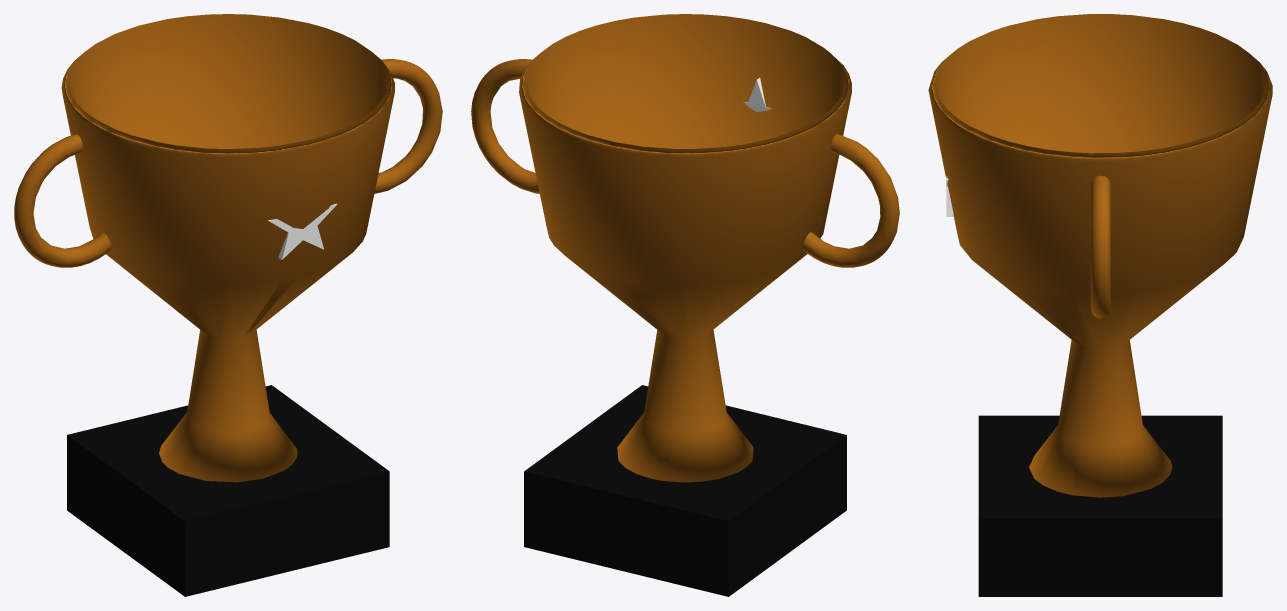
File: trophy-cup.glb
3 renders of one model, left to right at view 1: azimuth 30°, elevation 25°; view 2: azimuth 150°, elevation 25°; view 3: azimuth 270°, elevation 25°, orthographic. The views are drawn at different scales.
Parts seen in each view (by area): view 1: Cup, Plinth, Handle L, Handle R, Star; view 2: Cup, Plinth, Handle L, Handle R; view 3: Cup, Plinth, Handle R.
Boxes of the visible parts, left/top/right/bottom form: Cup: left=61, top=14, right=394, bottom=482; Plinth: left=67, top=385, right=389, bottom=596; Handle L: left=14, top=134, right=110, bottom=267; Handle R: left=374, top=59, right=442, bottom=193; Star: left=268, top=203, right=337, bottom=259; Cup: left=519, top=14, right=851, bottom=482; Plinth: left=524, top=385, right=846, bottom=596; Handle L: left=803, top=134, right=899, bottom=267; Handle R: left=471, top=59, right=539, bottom=193; Cup: left=928, top=14, right=1272, bottom=497; Plinth: left=978, top=415, right=1222, bottom=596; Handle R: left=1090, top=175, right=1110, bottom=318.
Bounding box in the file's own units: 0.708 × 0.71 × 0.4795.
